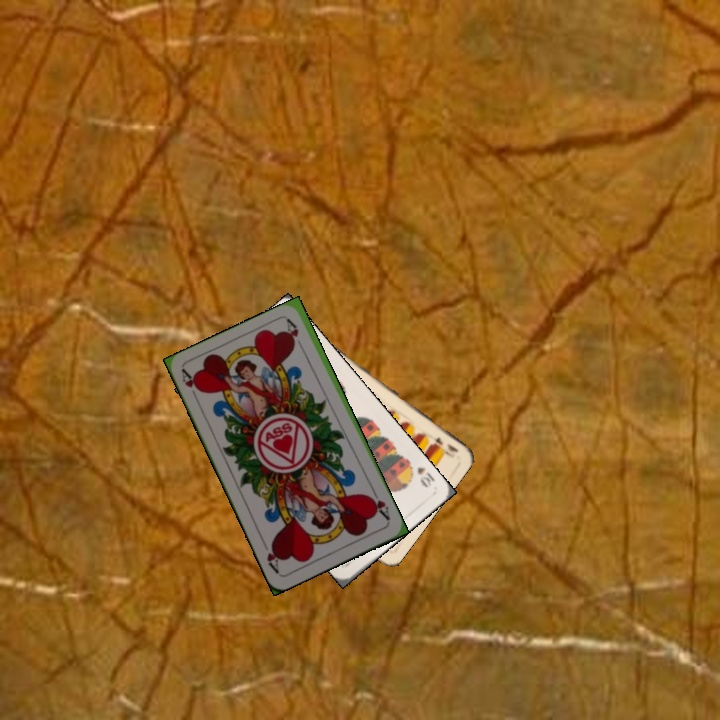E10: (430, 433, 461, 458)
HA: (365, 486, 393, 523), (178, 366, 204, 405)
S10: (404, 458, 437, 490)
